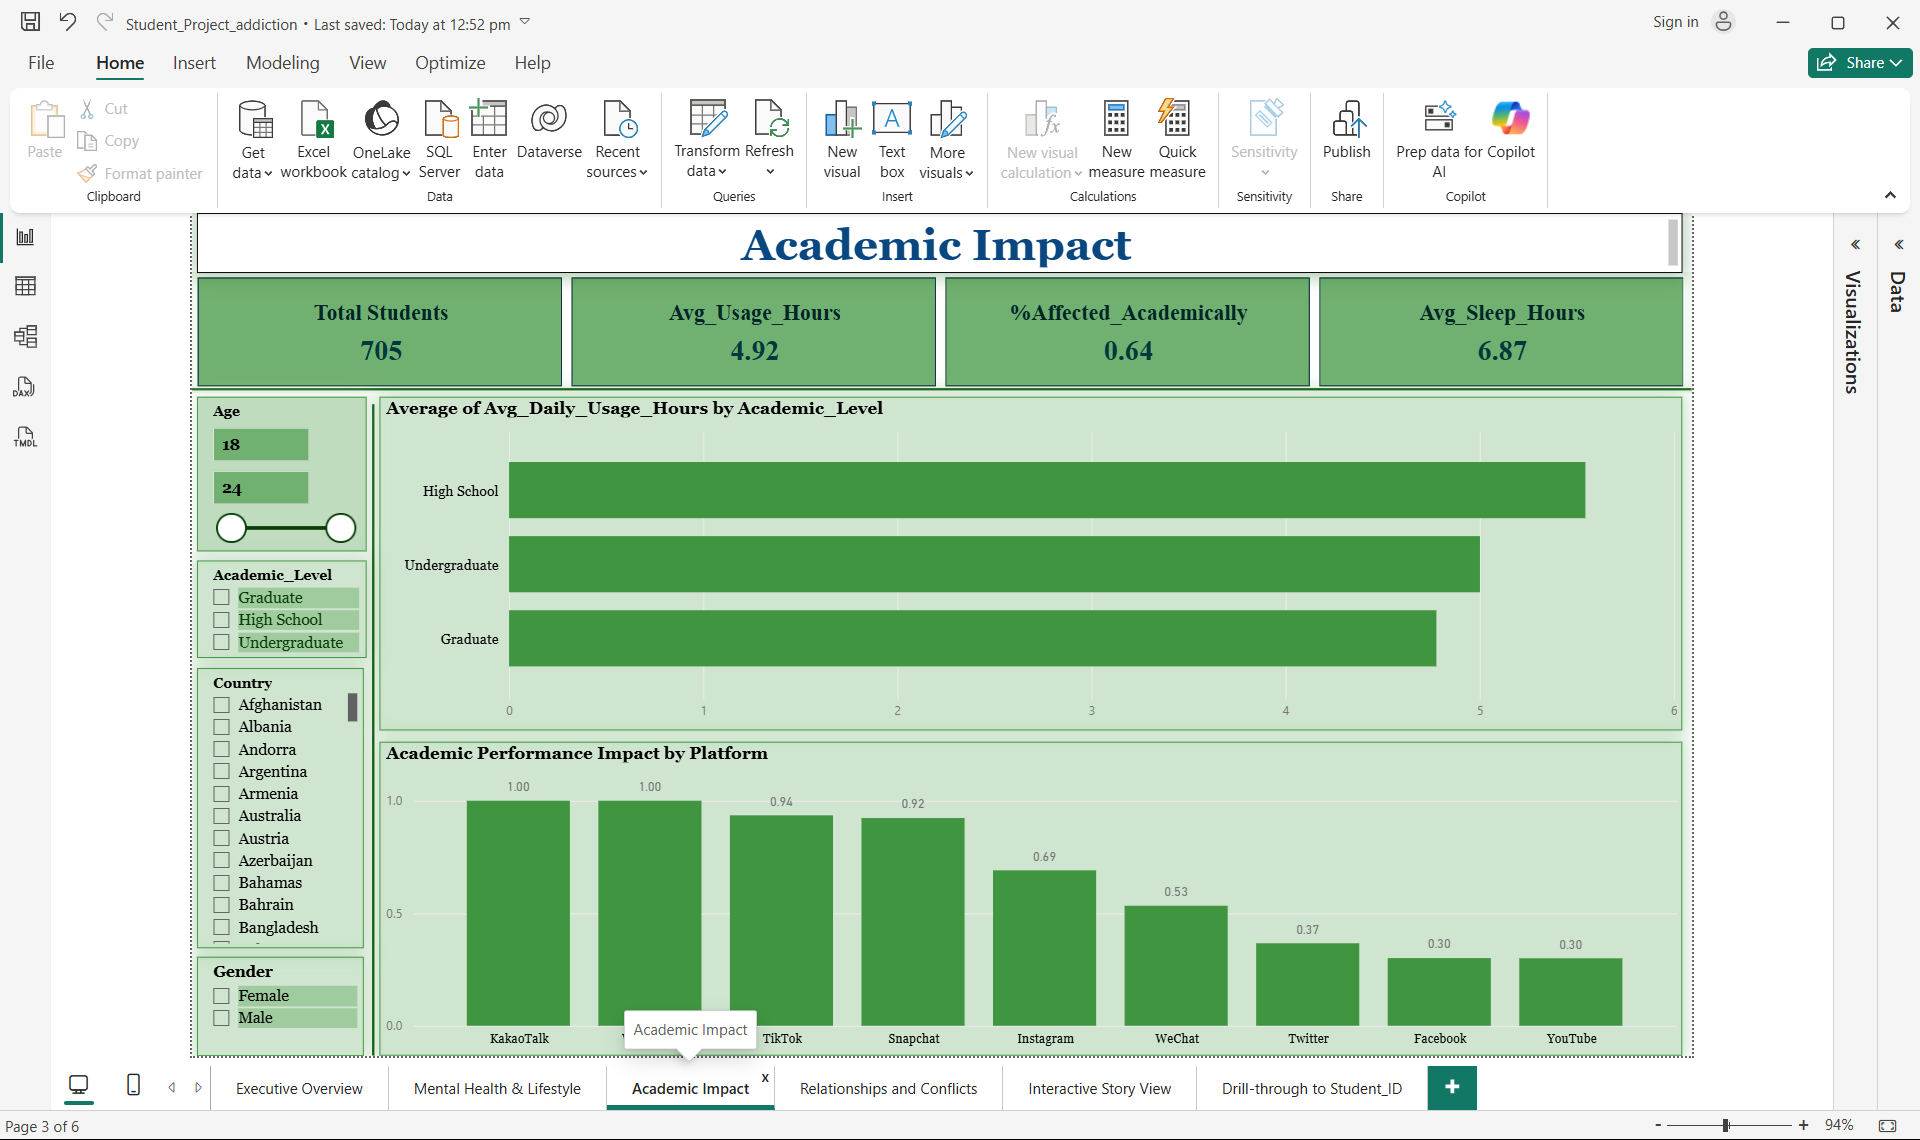

What the dashboard file says about the page in this screenshot:
{"tool":"powerbi","page":{"name":"Academic Impact","canvas":[1280,720],"ordinal":2},"visuals":[{"type":"clusteredBarChart","fields":{"Y":["Avg(Platform Details.Avg_Daily_Usage_Hours)"],"Category":["Student Details.Academic_Level"]},"box":[160.3,157,1112.2,284.5],"z":0},{"type":"columnChart","title":"Academic Performance Impact by Platform","fields":{"Category":["Platform Details.Most_Used_Platform"],"Y":["Student Details.%Affected_Academically"]},"box":[160.5,450.9,1112.1,267.8],"z":1000},{"type":"shape","box":[148.3,163.2,12.8,555.9],"z":2000},{"type":"shape","box":[0,144,1280.4,12.8],"z":3000},{"type":"cardVisual","fields":{"Data":["Student Details.Total Students","Student Details.Avg_Usage_Hours","Student Details.%Affected_Academically","Student Details.Avg_Sleep_Hours"]},"box":[0,50,1280.2,103.5],"z":4000},{"type":"slicer","fields":{"Values":["Student Details.Gender"]},"box":[4.5,635.3,142.3,84.7],"z":5000},{"type":"slicer","fields":{"Values":["Student Details.Country"]},"box":[4.5,388.4,142.3,239.4],"z":6000},{"type":"slicer","fields":{"Values":["Student Details.Academic_Level"]},"box":[4.5,297,144.5,83.6],"z":7000},{"type":"slicer","fields":{"Values":["Student Details.Age"]},"box":[4.5,157,144.5,132.1],"z":8000},{"type":"textbox","box":[4.5,0,1268,50.9],"z":9000}]}

Visuals, with their boxes on the page's 1280x720 design canvas (x1, y1, x2, y2). These are canvas units, not pixel positions in the 1920x1140 screenshot, which may show the page scaled, cropped or inside an application window:
clusteredBarChart - Avg(Platform Details.Avg_Daily_Usage_Hours) x Student Details.Academic_Level: pyautogui.locateOnScreen(160, 157, 1272, 442)
"Academic Performance Impact by Platform" columnChart: pyautogui.locateOnScreen(160, 451, 1273, 719)
shape: pyautogui.locateOnScreen(148, 163, 161, 719)
shape: pyautogui.locateOnScreen(0, 144, 1280, 157)
cardVisual - Student Details.Total Students x Student Details.Avg_Usage_Hours: pyautogui.locateOnScreen(0, 50, 1280, 154)
slicer - Student Details.Gender: pyautogui.locateOnScreen(4, 635, 147, 720)
slicer - Student Details.Country: pyautogui.locateOnScreen(4, 388, 147, 628)
slicer - Student Details.Academic_Level: pyautogui.locateOnScreen(4, 297, 149, 381)
slicer - Student Details.Age: pyautogui.locateOnScreen(4, 157, 149, 289)
textbox: pyautogui.locateOnScreen(4, 0, 1272, 51)
